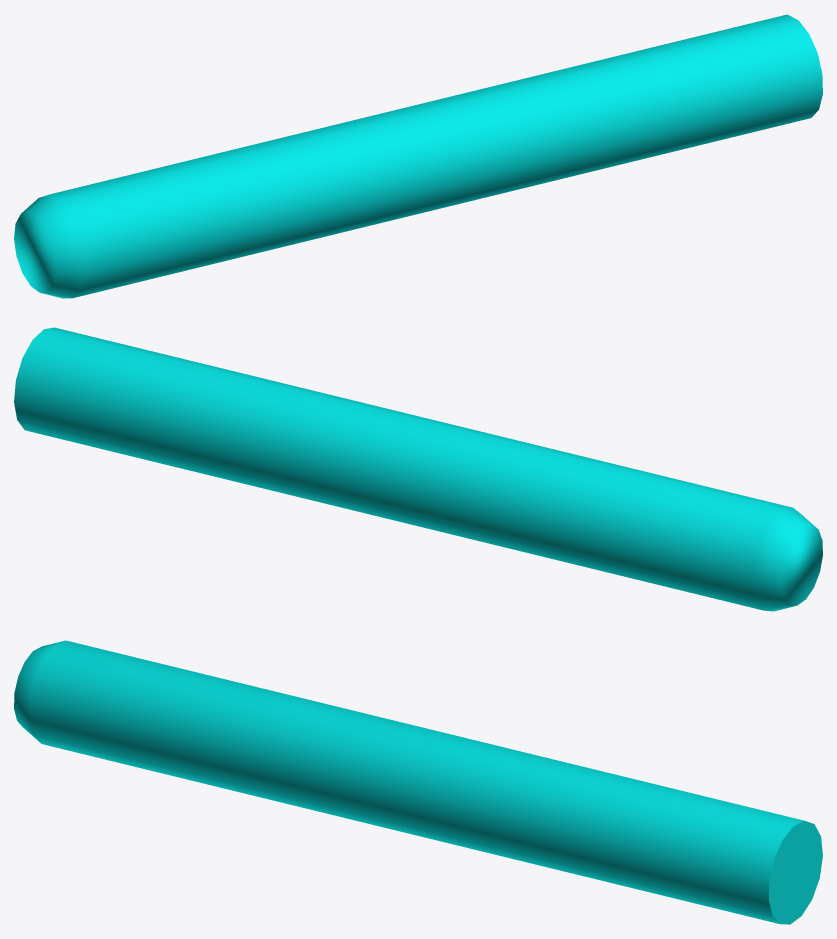
3 views of the same model, one above another, from view 1: azimuth 30°, elevation 25°; view 2: azimuth 150°, elevation 25°; view 3: azimuth 330°, elevation 25° (orthographic).
Visible parts, largest first — view 1: tr009; view 2: tr009; view 3: tr009.
Part boxes in pixels (x1,y1,x2,y2): tr009: (14, 14, 822, 298); tr009: (14, 327, 822, 611); tr009: (14, 640, 822, 924).
Bounding box in the file's own units: 5.97 × 0.718 × 0.7357.
